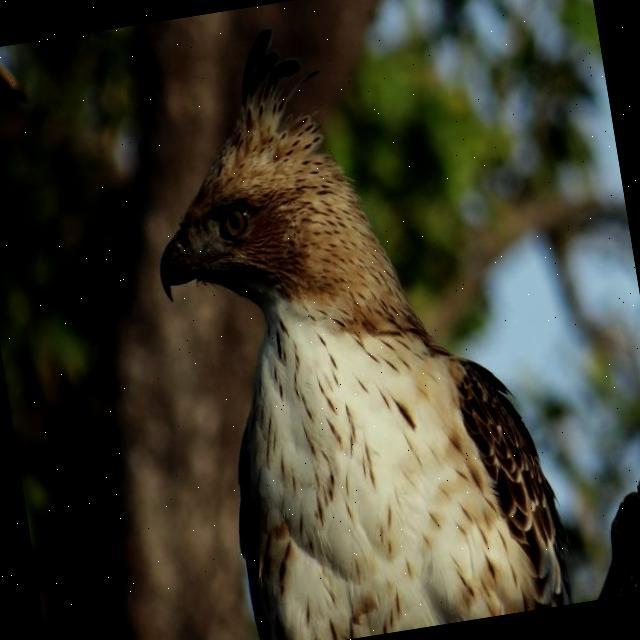Elang Jawa: (69, 0, 597, 640)
